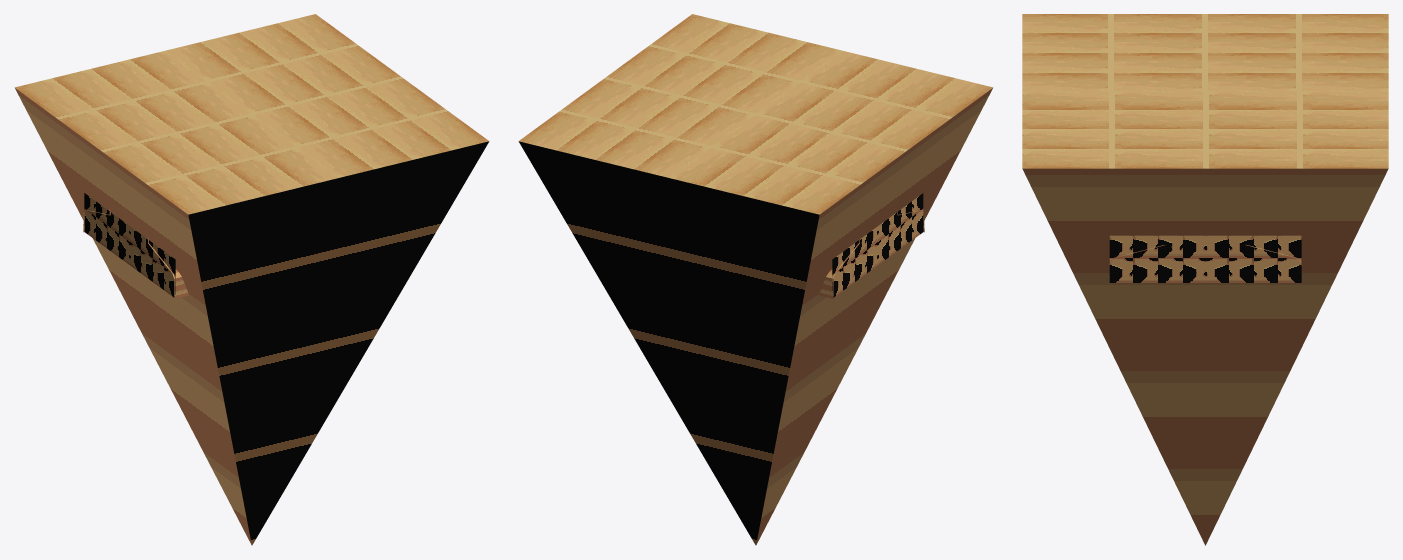
3 renders of one model, left to right at view 1: azimuth 30°, elevation 25°; view 2: azimuth 150°, elevation 25°; view 3: azimuth 270°, elevation 25°, orthographic. The views are drawn at different scales.
Visible parts, largest first — view 1: 3594kg_05_ta0; view 2: 3594kg_05_ta0; view 3: 3594kg_05_ta0.
Part boxes in pixels (left/top/right/bottom): 3594kg_05_ta0: left=14, top=14, right=489, bottom=545; 3594kg_05_ta0: left=518, top=14, right=993, bottom=545; 3594kg_05_ta0: left=1022, top=14, right=1388, bottom=545.
Bounding box in the file's own units: 1.95 × 2.67 × 1.95.
Materials: 4 (4 with a texture image).
